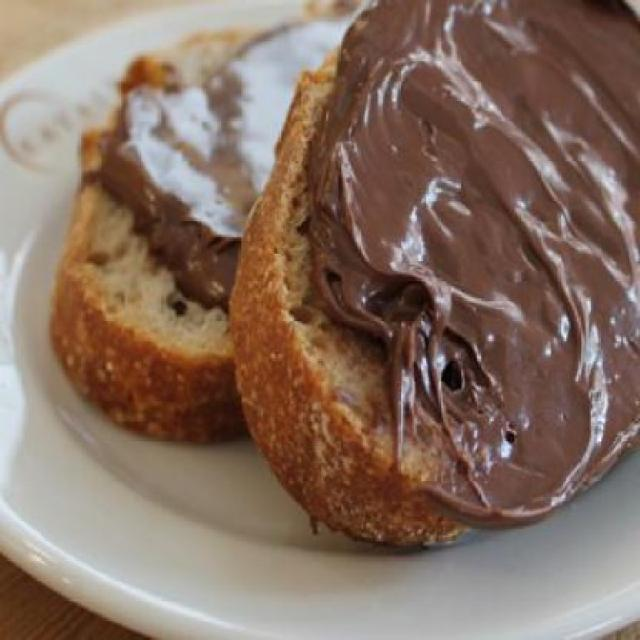Spread: (304, 2, 638, 536), (110, 11, 359, 292)
